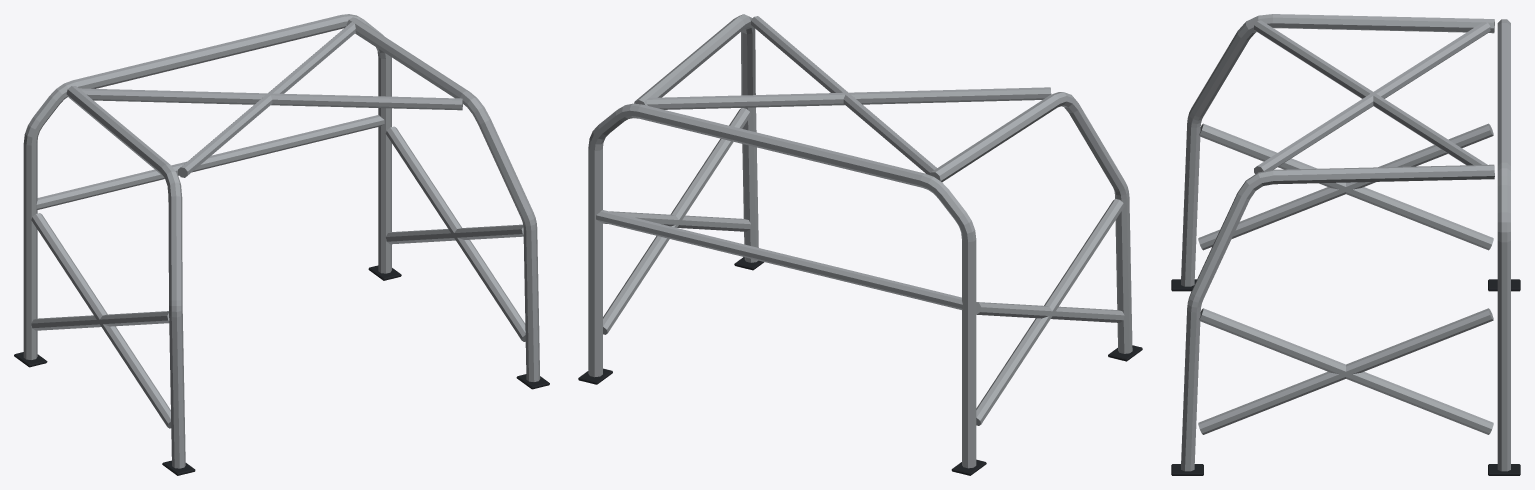
Rendered from kaze_gt.glb.
The picture shows the model from 3 angles, left to right: view 1: azimuth 30°, elevation 25°; view 2: azimuth 150°, elevation 25°; view 3: azimuth 270°, elevation 25°; orthographic projection. The views are drawn at different scales.
Visible parts, largest first — view 1: model; view 2: model; view 3: model.
Part boxes in pixels (x1=…): model: x1=14, y1=14, x2=549, y2=475; model: x1=578, y1=14, x2=1142, y2=475; model: x1=1171, y1=14, x2=1520, y2=475.
Size of the model in its own units: 1.4 by 0.9627 by 1.06.
Materials: 2 (1 with a texture image).
